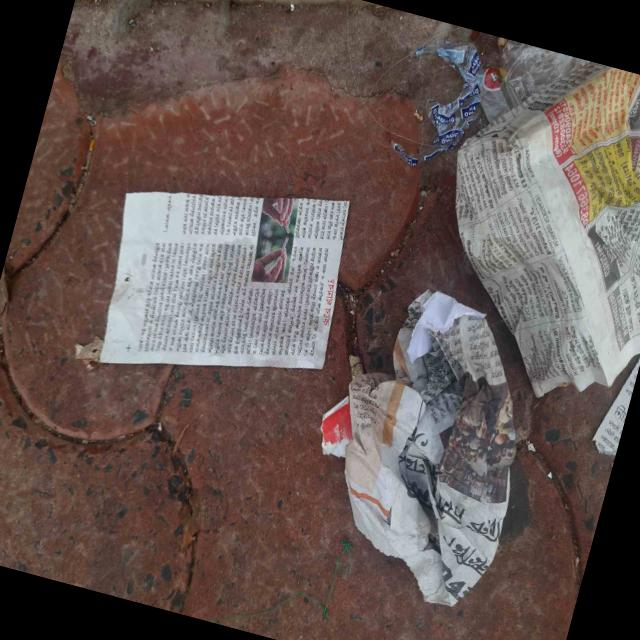giay: (456, 62, 640, 396), (344, 291, 516, 607), (99, 191, 348, 368), (594, 359, 640, 456)
nhua: (502, 39, 589, 106)
